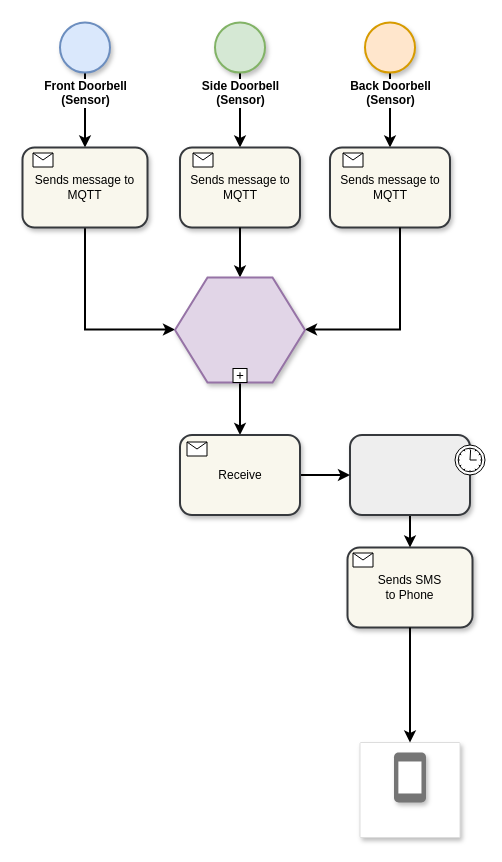
Image size: 502x862. Some labels were removed from this diagram. The shapes that lost their labels are listed below. From the top down, each one's centre as x and y in pixels, then its label:
At [241,331]: "MQTT".
At [410,476]: "Python Process".
At [410,791]: "Phone".
